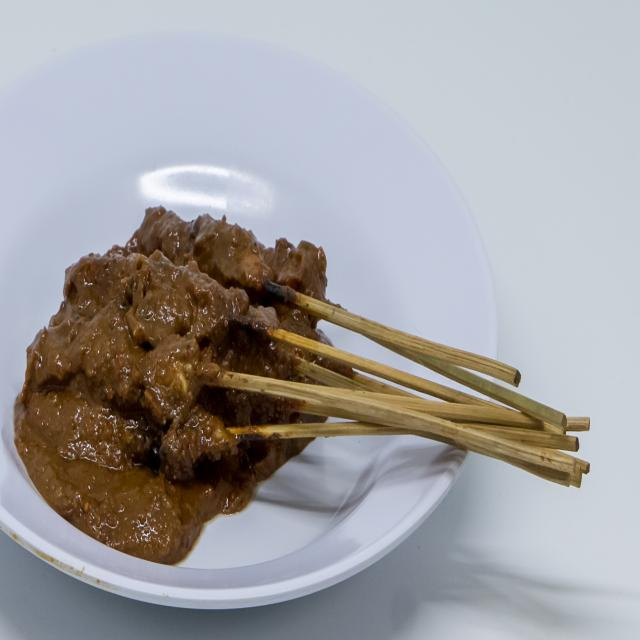Sate-Ayam: (31, 182, 356, 532)
